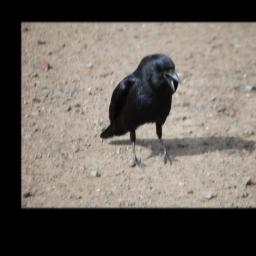Crow: (100, 54, 182, 168)
